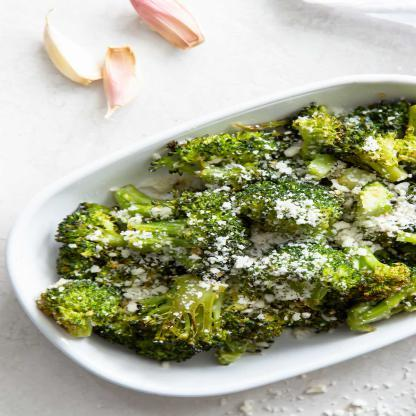broccoli: (33, 98, 416, 372)
